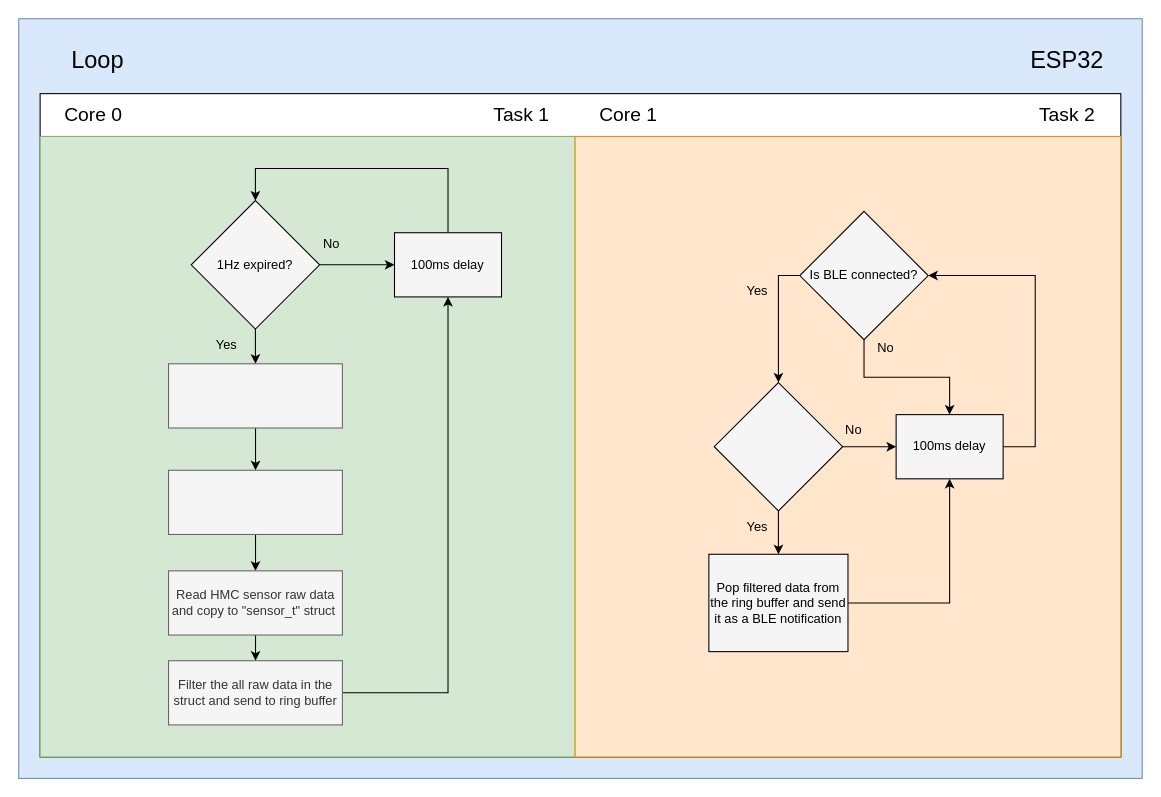
Some shapes in this 1161 by 797 pixel diagram are drawn without their labels. The shapes that lost their labels are listed below. From the top down, each one's centre as x and y in pixels, then its label:
(254,395): Read BME sensor raw data and copy to "sensor_t " struct
(778,446): 30 sec expired? and Is status true?
(254,501): Read MPU sensor raw data and copy to "sensor_t " struct
